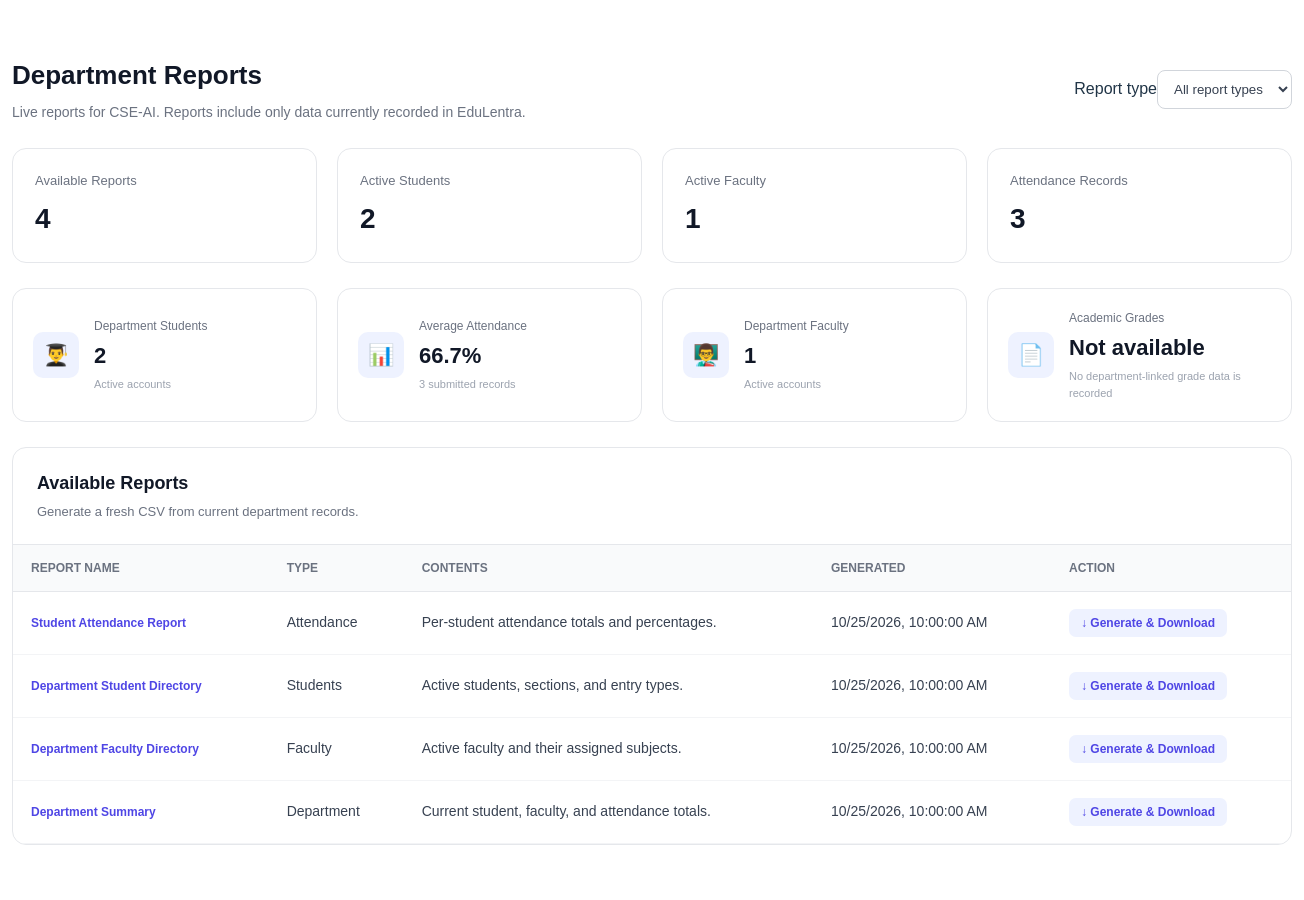
Test: HOD department reports › renders real department figures and generates a downloadable CSV report
Check: the text "Live reports for CSE-AI" is shown, box [12,104,526,120]
Check: the text "66.7%" is shown, box [419,343,481,368]
Click the button "↓ Generate & Download" in the row of "Student Attendance Report" at (1148, 622), box [1069,608,1227,636]
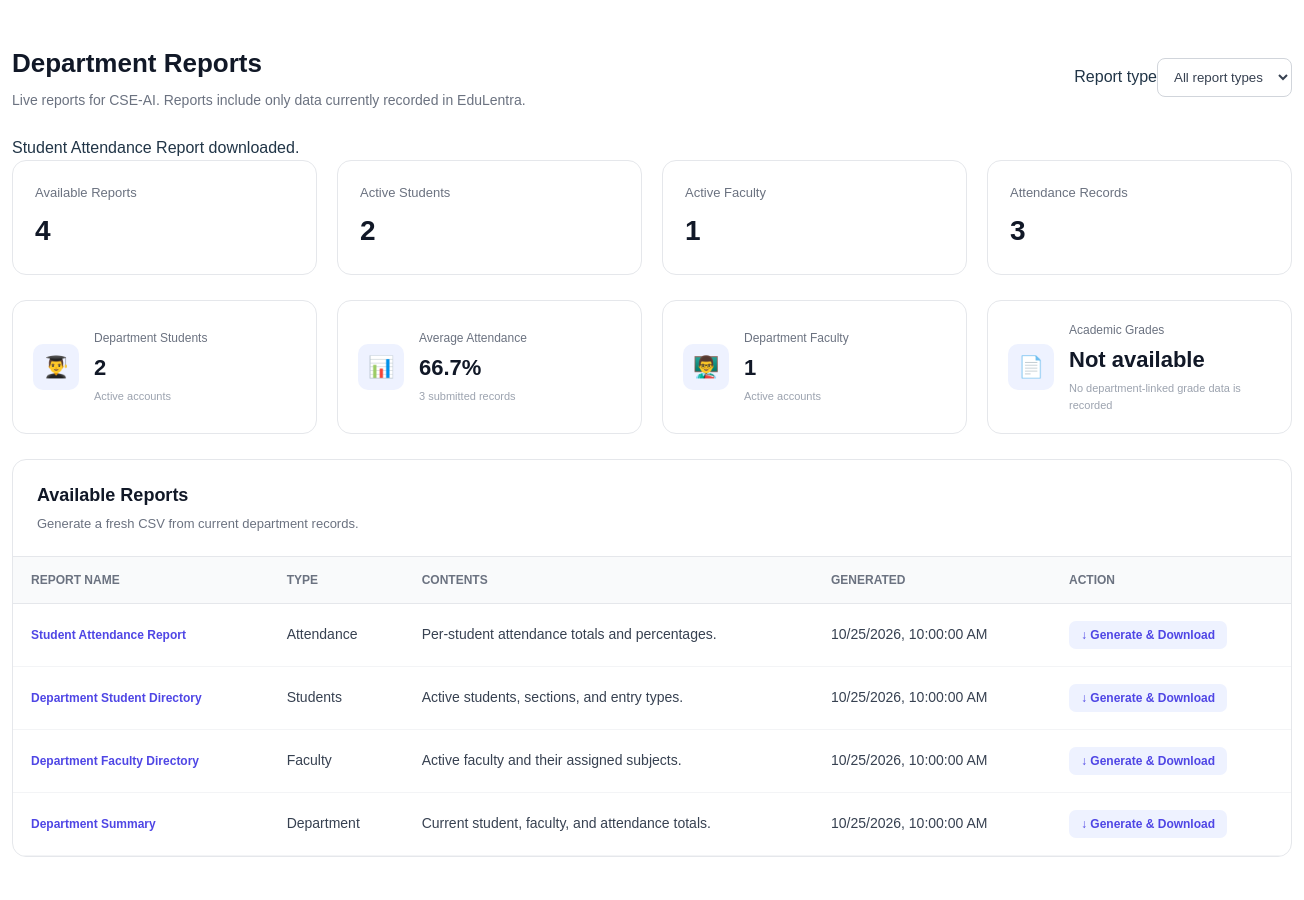
Check: the message shows "downloaded.", box [12,138,299,156]
